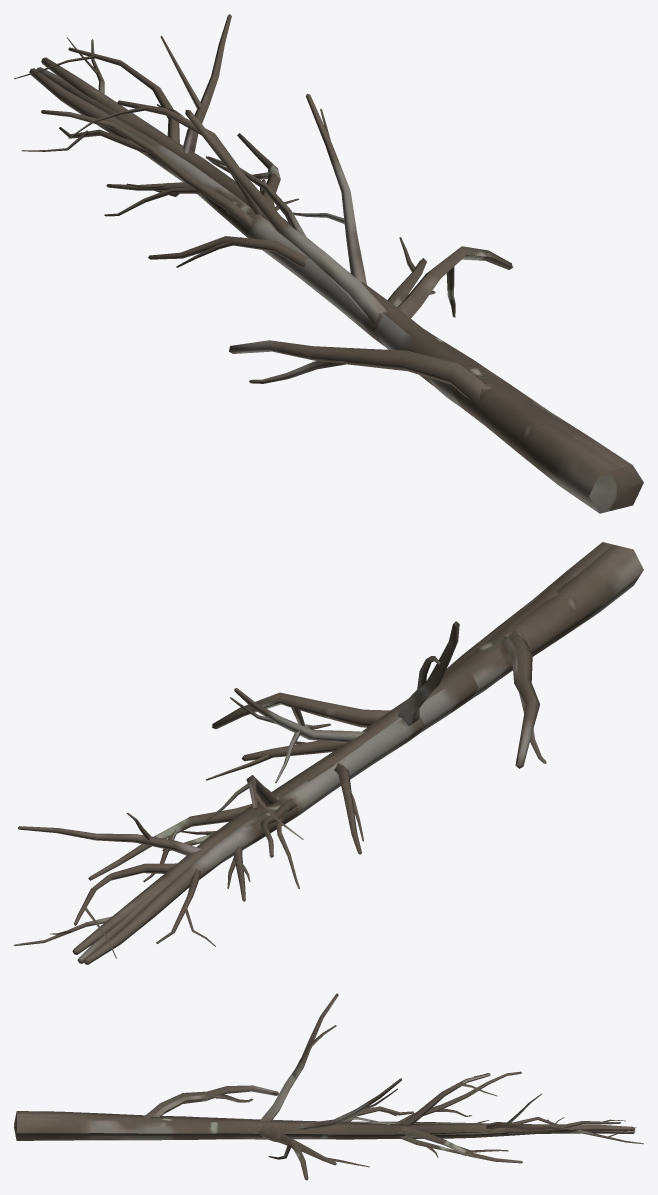
The model's file is branches.glb.
3 views of the same model, one above another, from view 1: azimuth 30°, elevation 25°; view 2: azimuth 150°, elevation 25°; view 3: azimuth 270°, elevation 25° (orthographic). The views are drawn at different scales.
Parts seen in each view (by area): view 1: branch_1, branch_2, branch_3; view 2: branch_1, branch_2, branch_3; view 3: branch_2, branch_1, branch_3.
Boxes of the visible parts, bbox=[...] form: branch_1: bbox=[21, 37, 620, 513]; branch_2: bbox=[29, 14, 643, 510]; branch_3: bbox=[14, 47, 630, 511]; branch_1: bbox=[14, 544, 643, 963]; branch_2: bbox=[18, 542, 608, 964]; branch_3: bbox=[72, 543, 624, 958]; branch_2: bbox=[14, 993, 634, 1140]; branch_1: bbox=[14, 1073, 643, 1167]; branch_3: bbox=[14, 1106, 634, 1180].
Size of the model in its own units: 0.3987 by 0.2567 by 1.31.
1 material, 1 textured.
